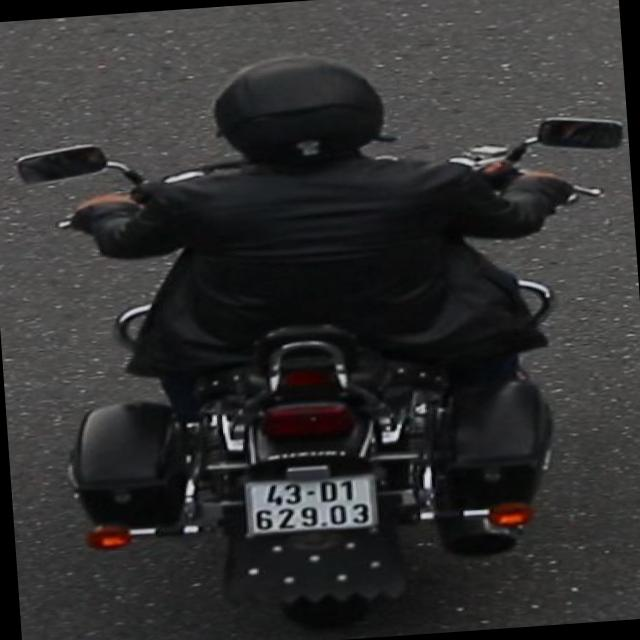LP: (234, 464, 388, 540)
helmet: (200, 42, 402, 178)
